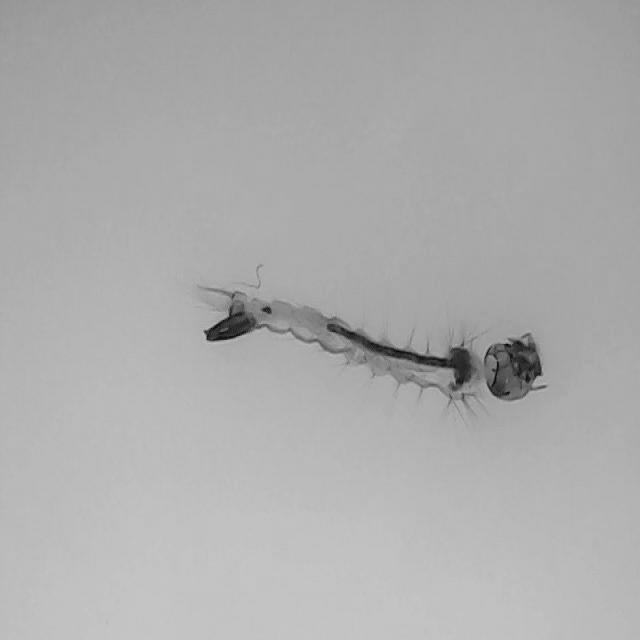larvas: (207, 292, 543, 405)
